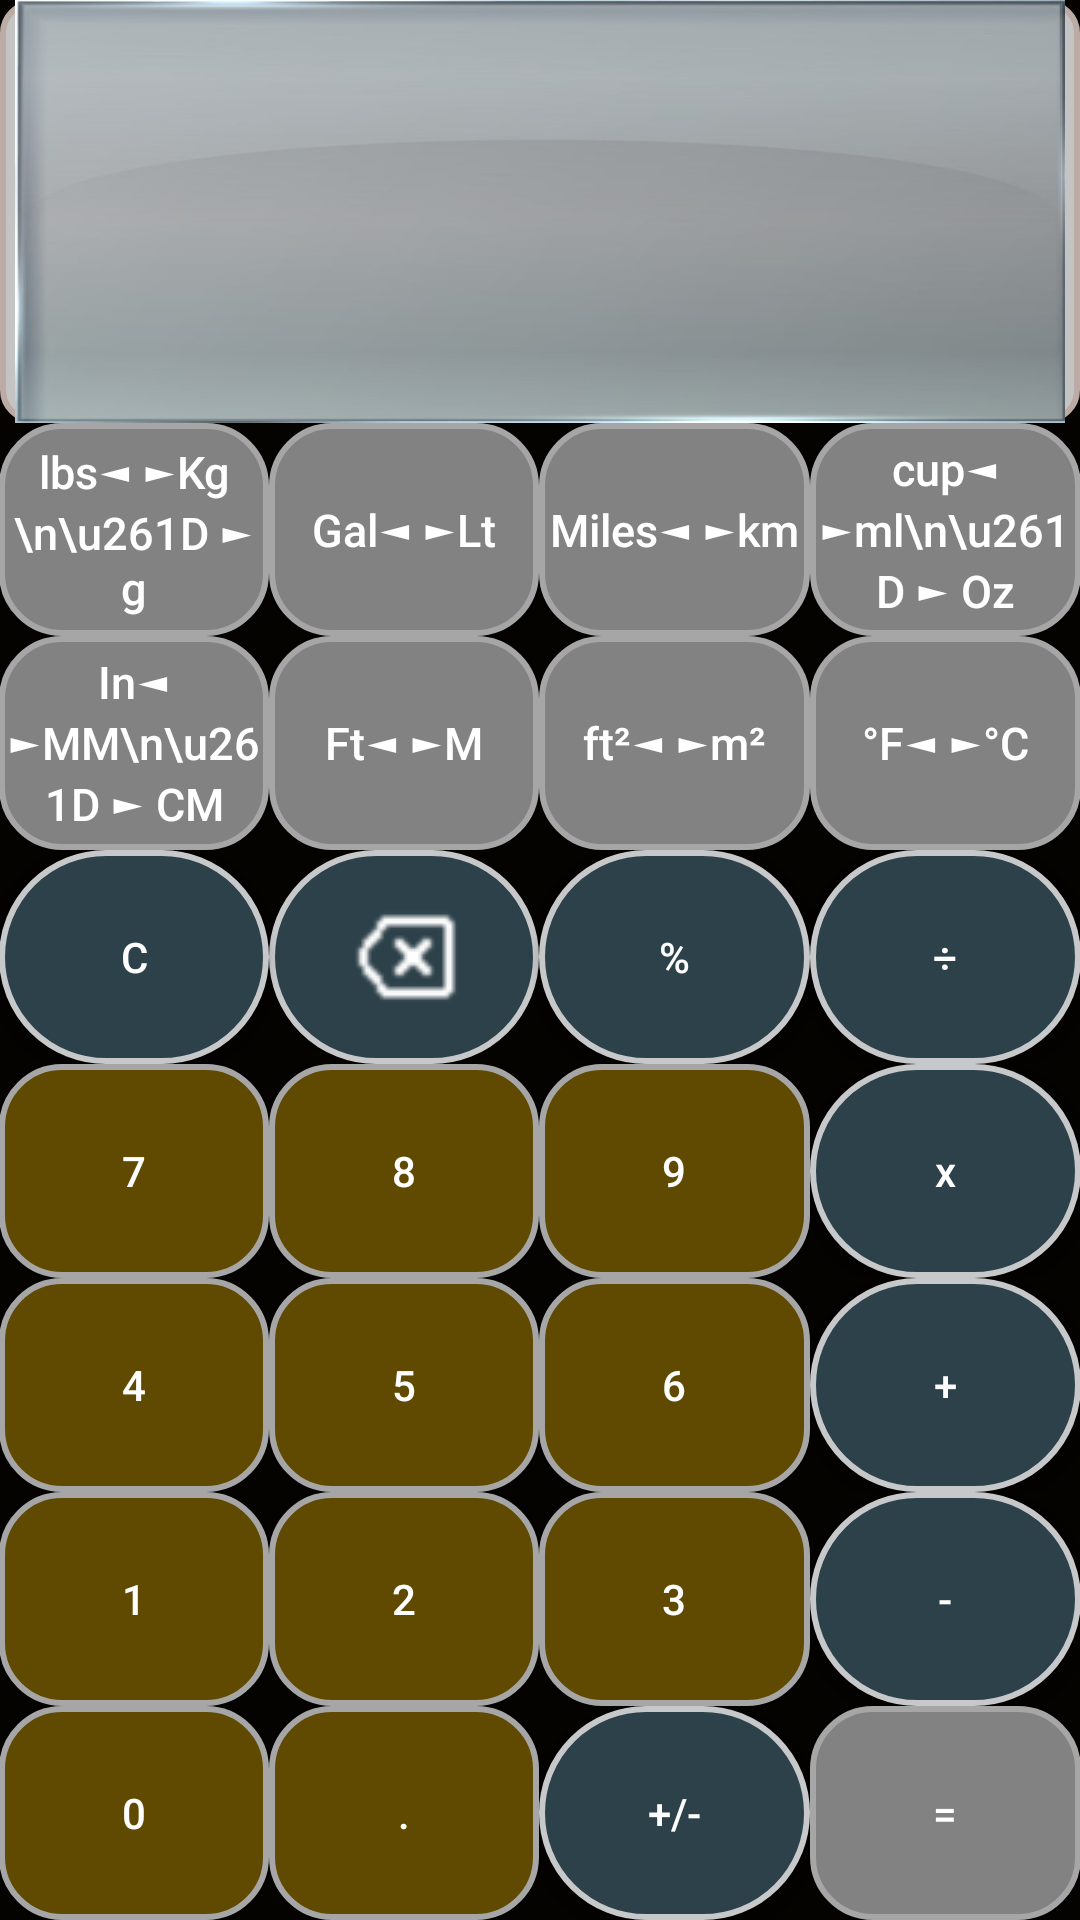

Icons on this 1080*1920 Android screen, each with the point to tap as point (x, y):
back Space: point (404, 957)
